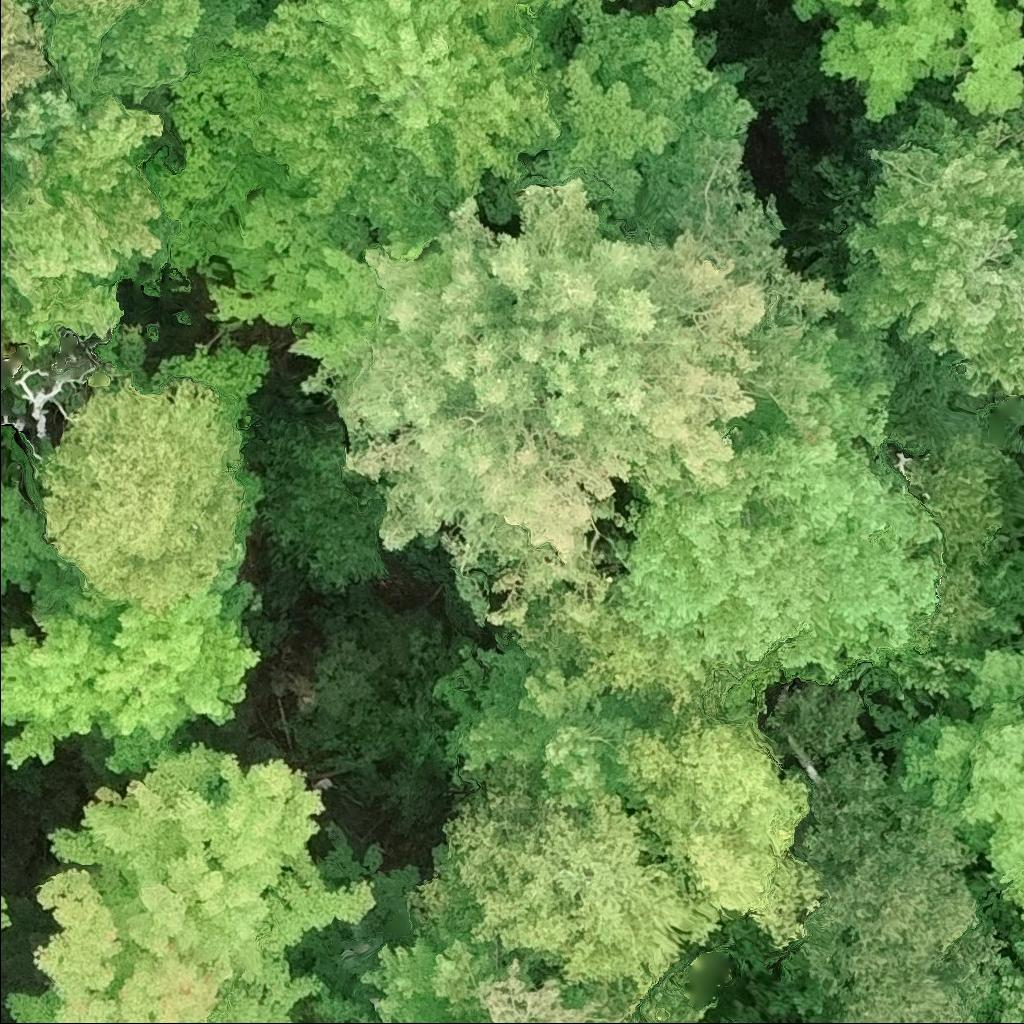crown: (289, 146, 844, 639), (32, 739, 378, 1023), (213, 0, 563, 254), (606, 422, 943, 684), (404, 755, 723, 1002), (0, 545, 267, 783), (790, 738, 1007, 1023), (515, 0, 762, 240), (829, 97, 1023, 399), (617, 705, 825, 949), (41, 374, 243, 612), (0, 94, 168, 360), (866, 632, 1023, 916), (430, 637, 675, 795), (138, 55, 287, 281), (203, 178, 381, 367), (819, 0, 1023, 122), (363, 934, 641, 1023), (0, 477, 92, 614), (765, 945, 853, 1023), (0, 0, 57, 116), (47, 0, 150, 39), (987, 919, 1023, 1023), (0, 723, 49, 795), (636, 978, 713, 1023), (788, 0, 906, 27), (299, 988, 375, 1023), (2, 986, 60, 1023), (506, 0, 566, 16), (0, 601, 19, 643), (0, 891, 14, 931), (682, 0, 712, 17), (0, 332, 10, 361), (607, 0, 625, 9)
